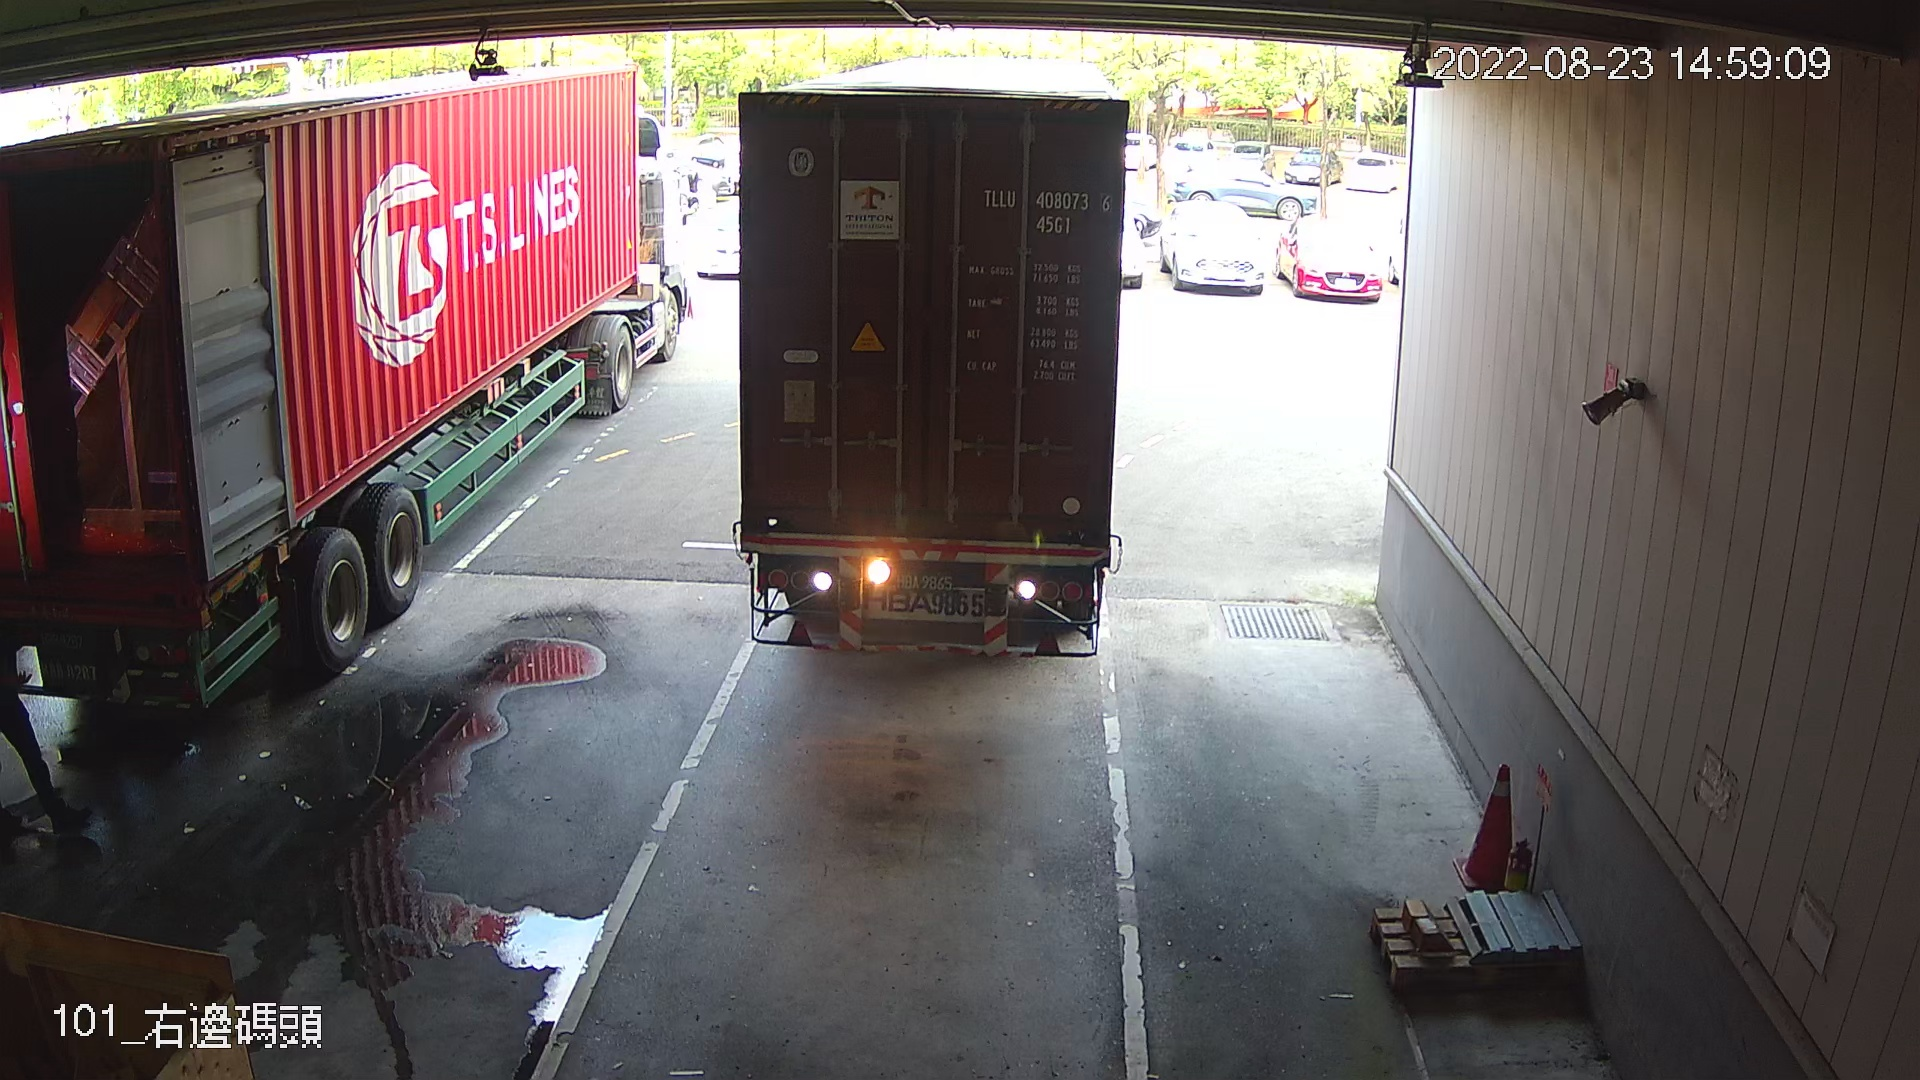container: (976, 179, 1120, 244)
